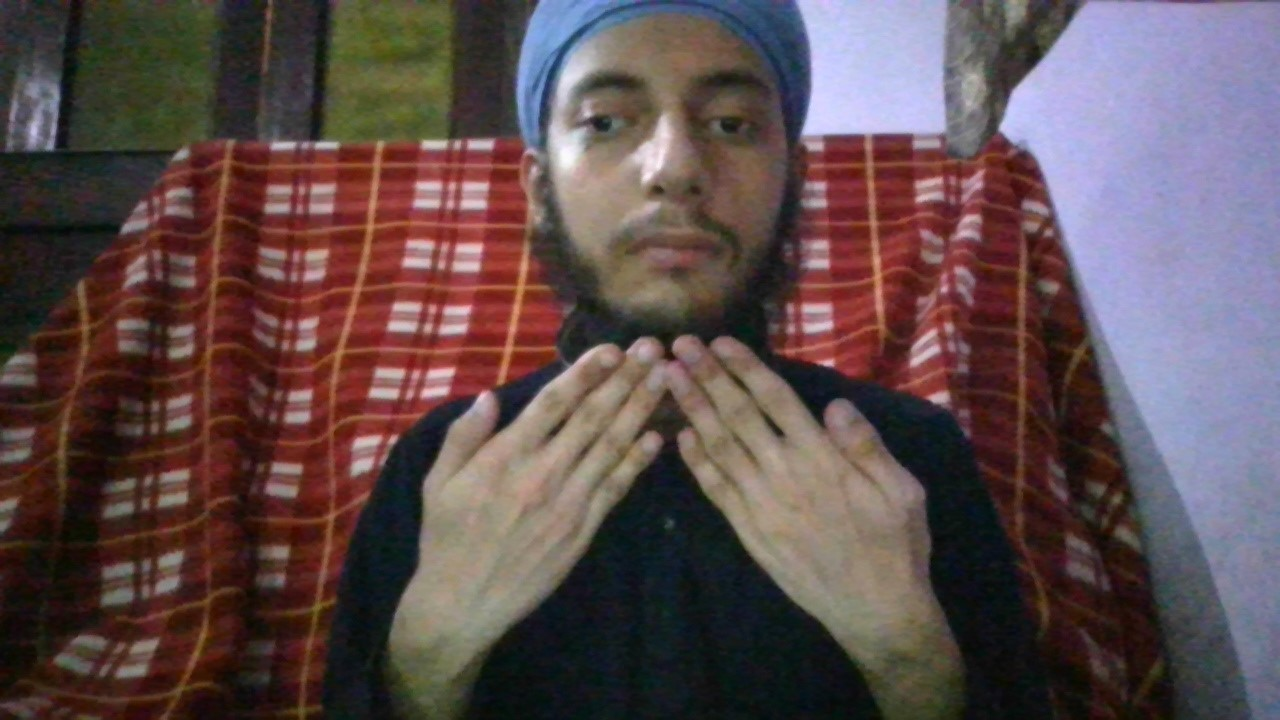Thank You: (419, 333, 933, 604)
